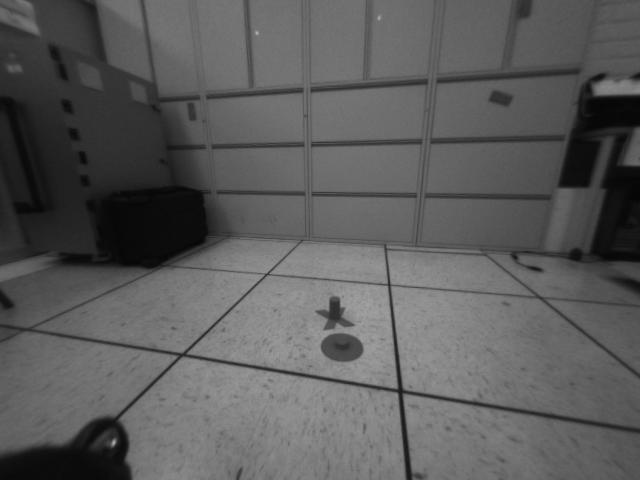X: (315, 297, 355, 330)
